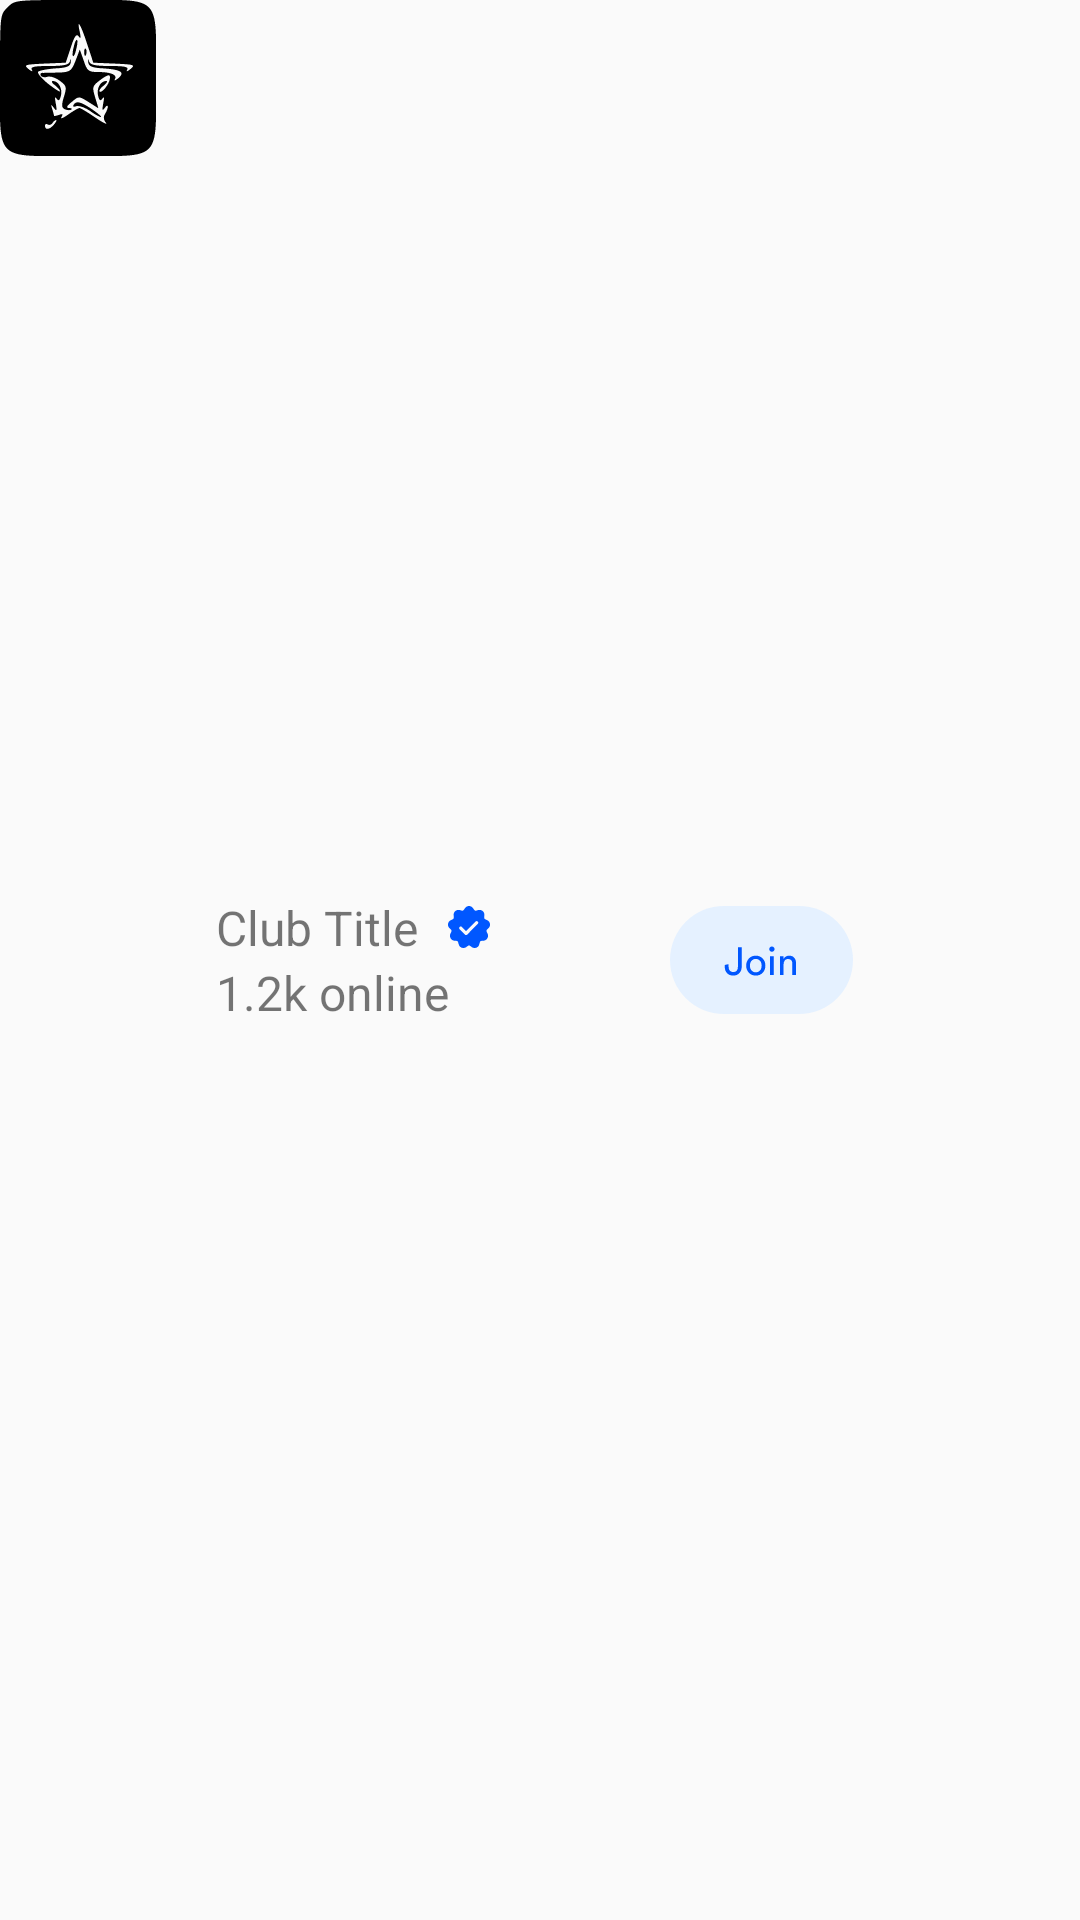

Where icons sit on this 1080 × 1920 app screen, as rect(x1, y1, x2, y2):
verification checkmark: rect(448, 906, 490, 948)
